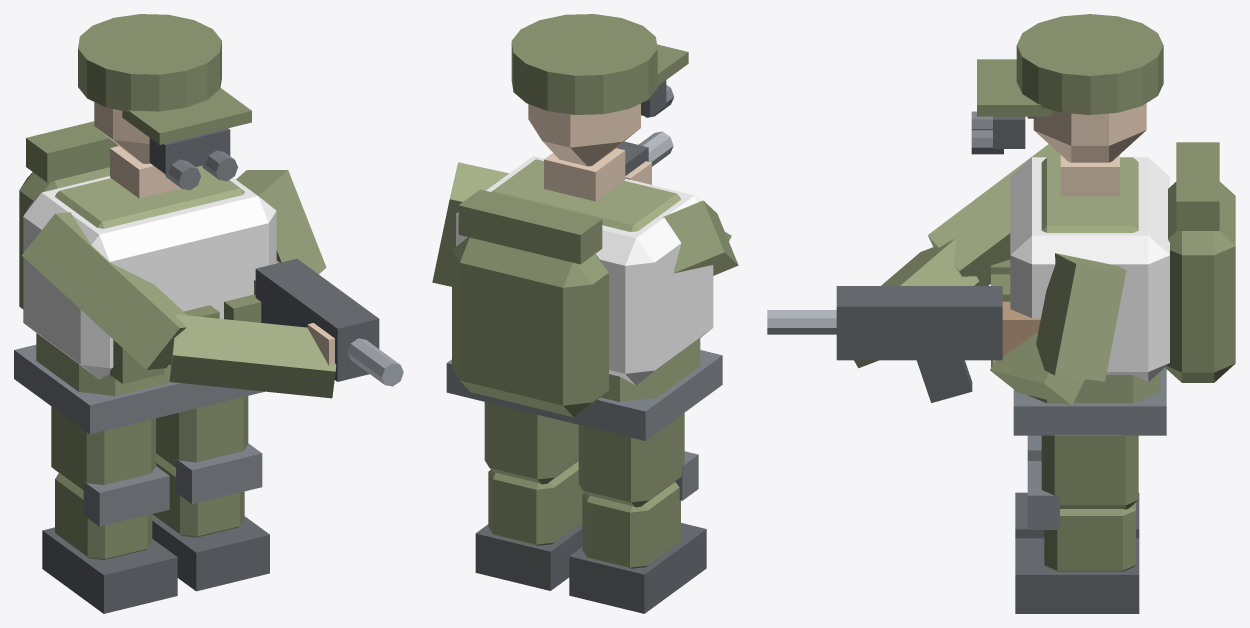
The model's file is scout.glb.
3 renders of one model, left to right at view 1: azimuth 30°, elevation 25°; view 2: azimuth 150°, elevation 25°; view 3: azimuth 270°, elevation 25°, orthographic.
Visible parts, largest first — view 1: main, shinl, shinr, legl, legr; view 2: main, shinl, shinr, legl, legr; view 3: main, shinr, legr, shinl.
Boxes of the visible parts, x1=… form: main: x1=14, y1=14, x2=403, y2=434; shinl: x1=42, y1=466, x2=177, y2=613; shinr: x1=152, y1=443, x2=269, y2=591; legl: x1=51, y1=406, x2=155, y2=490; legr: x1=156, y1=396, x2=248, y2=467; main: x1=432, y1=14, x2=738, y2=440; shinl: x1=569, y1=451, x2=706, y2=613; shinr: x1=475, y1=461, x2=584, y2=590; legl: x1=578, y1=413, x2=684, y2=507; legr: x1=484, y1=402, x2=578, y2=484; main: x1=767, y1=14, x2=1235, y2=435; shinr: x1=1015, y1=461, x2=1139, y2=613; legr: x1=1041, y1=435, x2=1138, y2=509; shinl: x1=1015, y1=435, x2=1139, y2=538.
Bounding box in the file's own units: 0.3161 × 0.54 × 0.4344.
